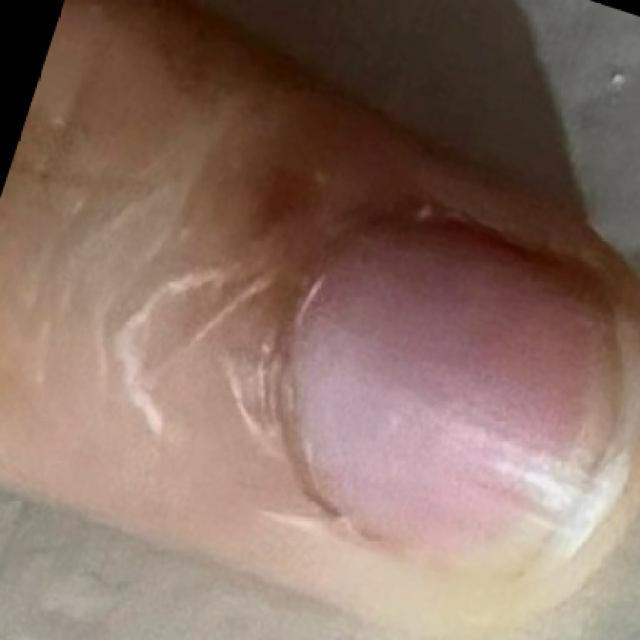Nail: (289, 212, 638, 583)
